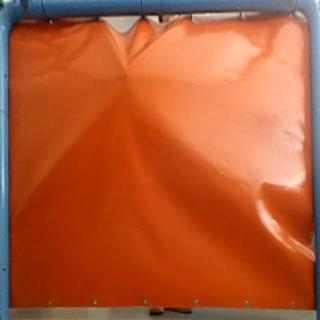Hit-hRxx: (118, 61, 132, 79)
